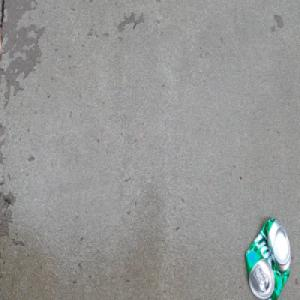SodaCan: (244, 214, 293, 300)
